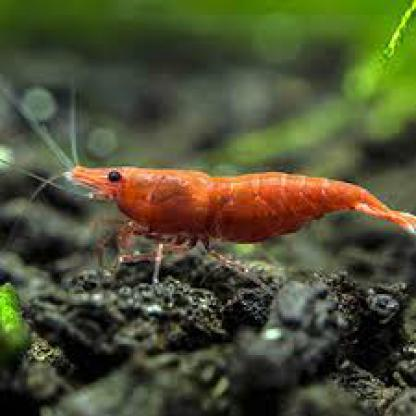shrimp: (63, 161, 414, 253)
